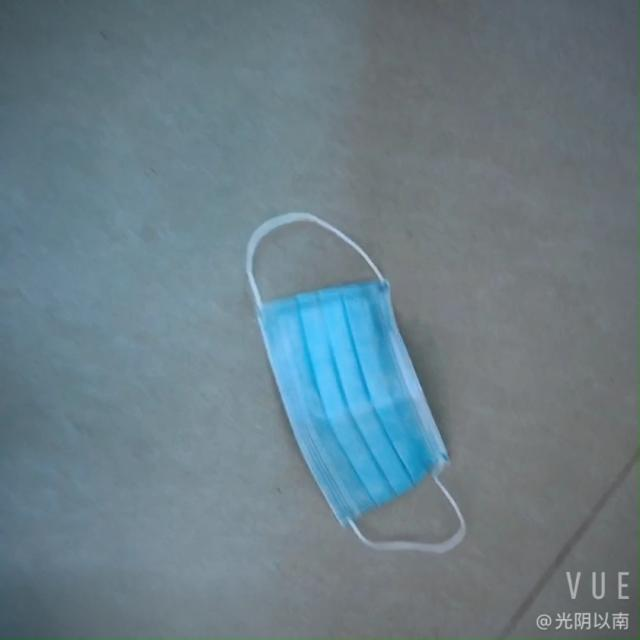non-organic waste: (238, 281, 445, 530)
